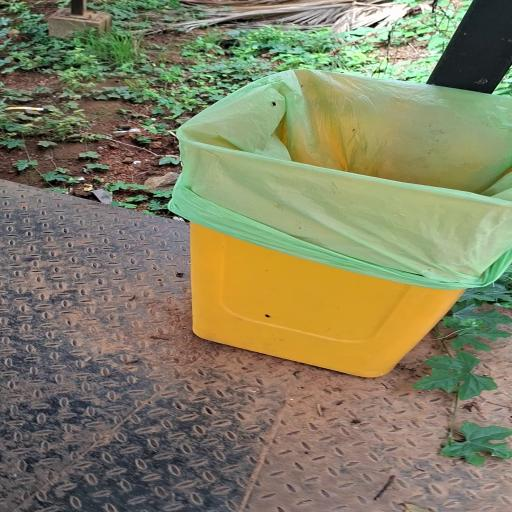Nilkamal-dustbin-detection: (170, 70, 512, 377)
